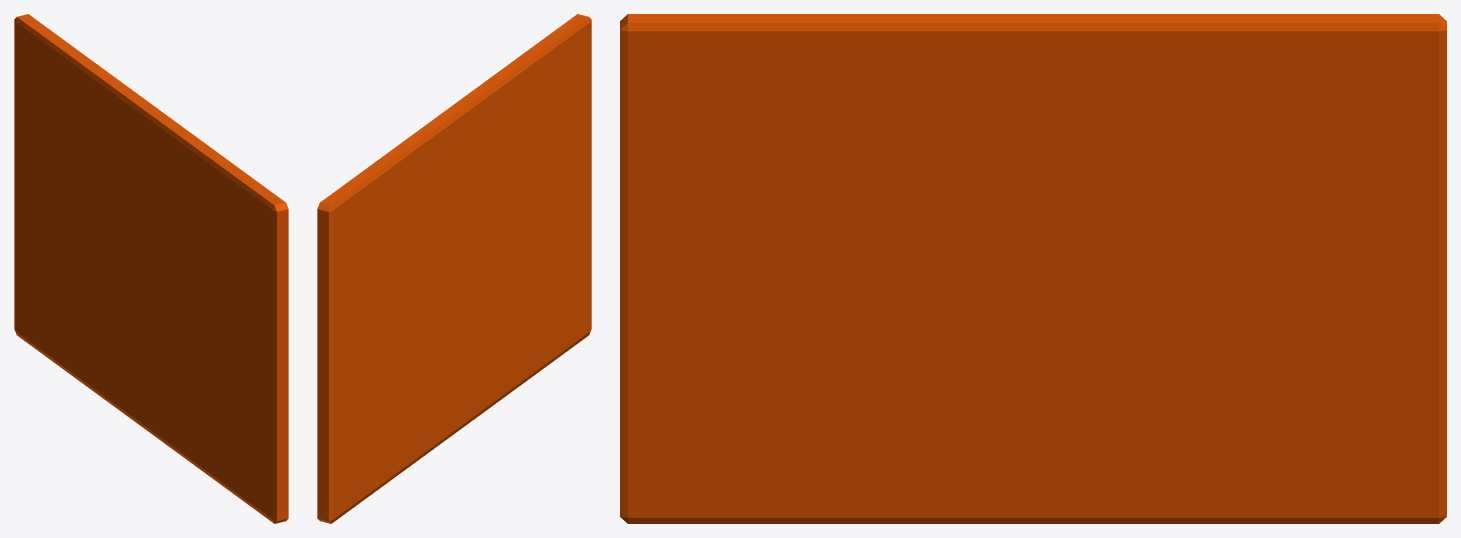
Rendered from Acces_Board_A.fbx.
3 views of the same model, side by side, from view 1: azimuth 30°, elevation 25°; view 2: azimuth 150°, elevation 25°; view 3: azimuth 270°, elevation 25° (orthographic). The views are drawn at different scales.
Parts seen in each view (by area): view 1: Acces_Board_A; view 2: Acces_Board_A; view 3: Acces_Board_A.
Part boxes in pixels (left/top/right/bottom): Acces_Board_A: left=14, top=14, right=288, bottom=523; Acces_Board_A: left=317, top=14, right=591, bottom=523; Acces_Board_A: left=620, top=14, right=1446, bottom=523.
Bounding box in the file's own units: 0.537 × 11.07 × 16.56.
